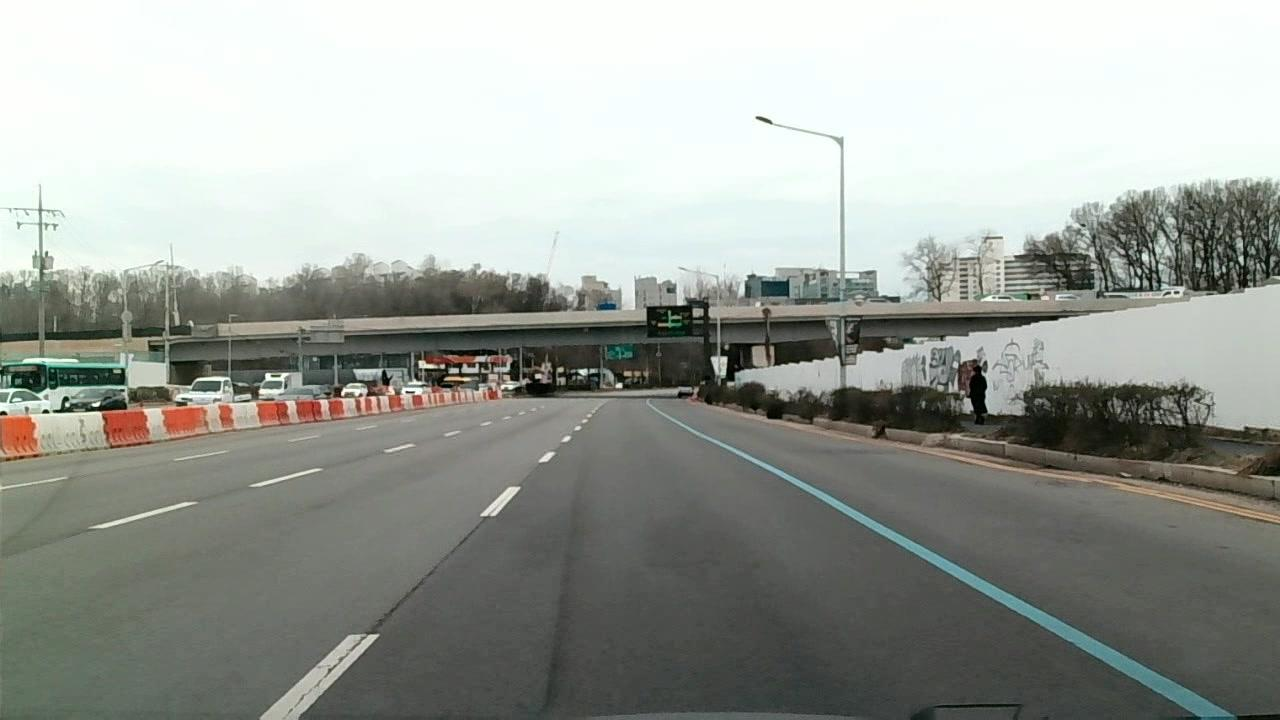banner: (297, 606, 392, 697), (392, 543, 461, 609), (462, 516, 486, 539)
